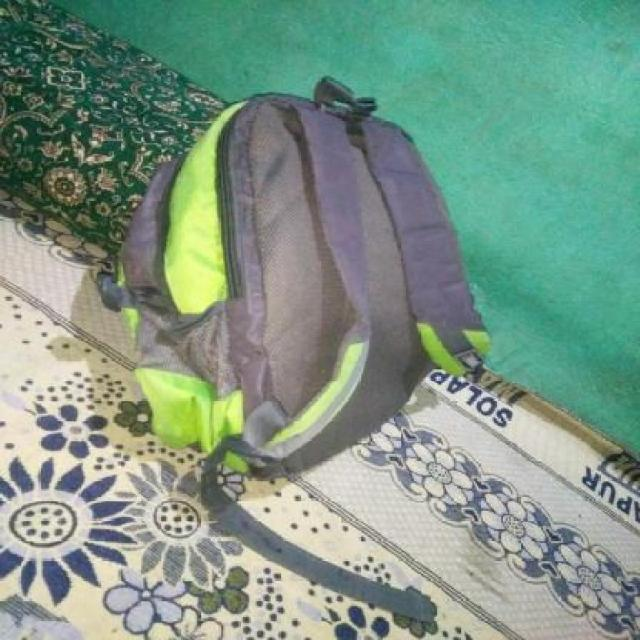backpack: (90, 70, 498, 488)
